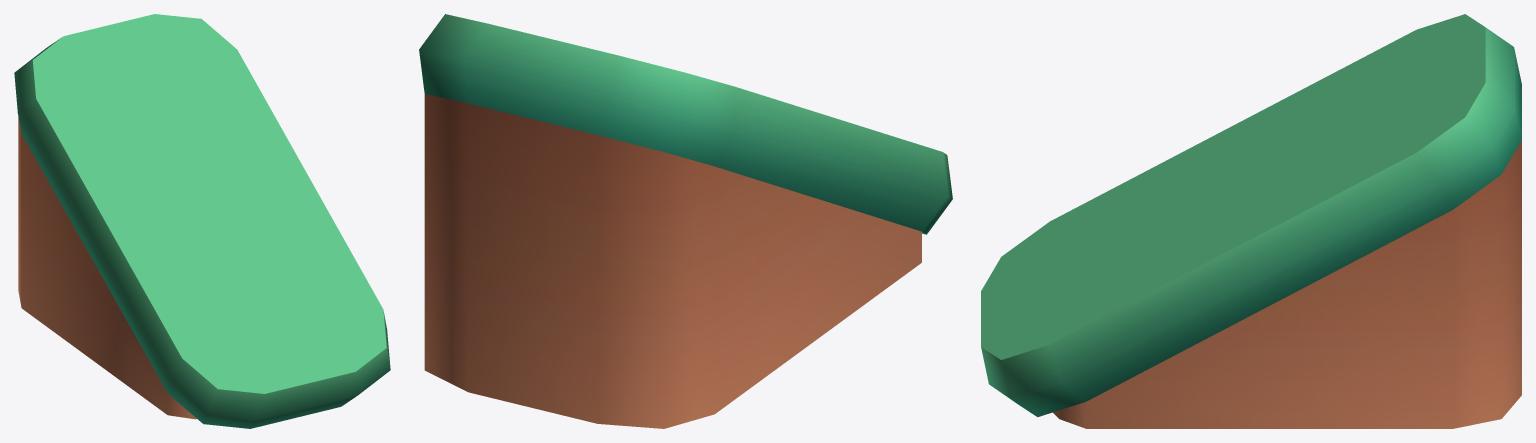
Rendered from kenney-platformer-block-grass-large-slope-steep-narrow.glb.
3 views of the same model, side by side, from view 1: azimuth 30°, elevation 25°; view 2: azimuth 150°, elevation 25°; view 3: azimuth 270°, elevation 25° (orthographic). The views are drawn at different scales.
Parts seen in each view (by area): view 1: block-grass-large-slope-steep-narrow; view 2: block-grass-large-slope-steep-narrow; view 3: block-grass-large-slope-steep-narrow.
Boxes of the visible parts, <box> form: block-grass-large-slope-steep-narrow: <box>14,14,390,428</box>; block-grass-large-slope-steep-narrow: <box>419,14,952,428</box>; block-grass-large-slope-steep-narrow: <box>981,14,1521,428</box>.
Size of the model in its own units: 1.08 by 1.22 by 1.86.
1 material, 1 textured.
